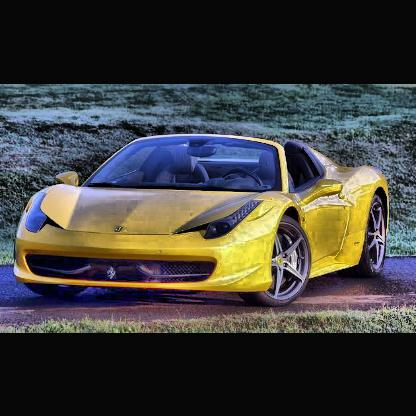Ferrari 458 Italia Convertible 2012: (15, 135, 390, 308)
